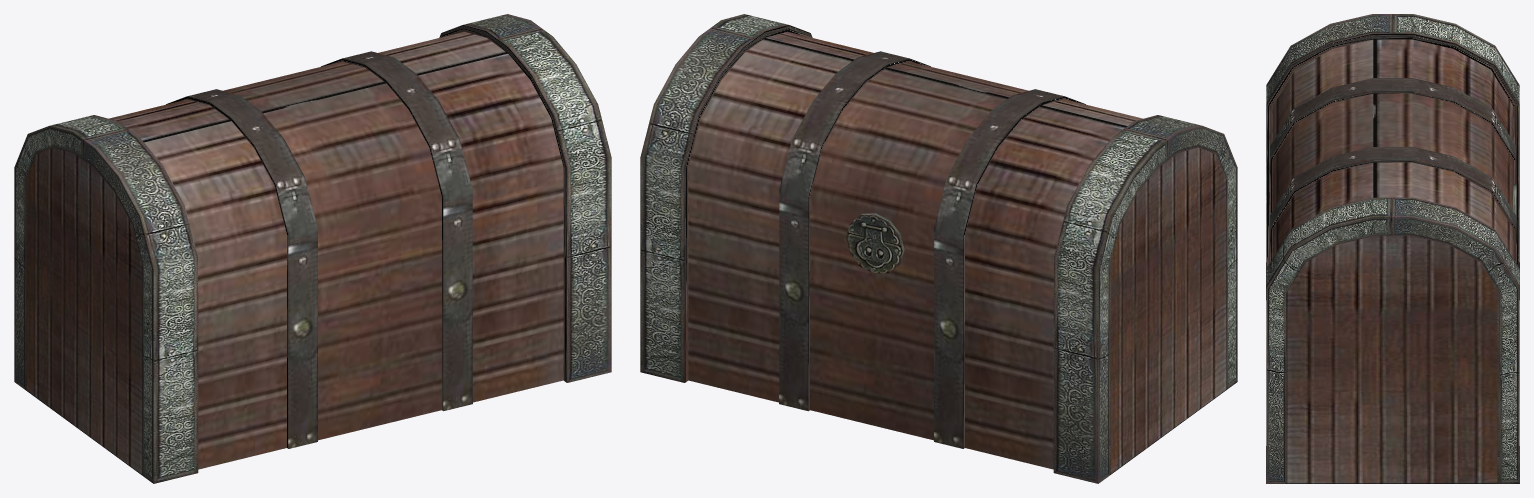
The model's file is treasure_chest.obj.
3 renders of one model, left to right at view 1: azimuth 30°, elevation 25°; view 2: azimuth 150°, elevation 25°; view 3: azimuth 270°, elevation 25°, orthographic. The views are drawn at different scales.
Parts seen in each view (by area): view 1: treasure_chest; view 2: treasure_chest; view 3: treasure_chest.
Part boxes in pixels (x1=…): treasure_chest: x1=14, y1=14, x2=611, y2=483; treasure_chest: x1=640, y1=14, x2=1237, y2=483; treasure_chest: x1=1266, y1=14, x2=1519, y2=483.
Bounding box in the file's own units: 1.92 × 1.17 × 1.01.
Materials: 1 (1 with a texture image).
